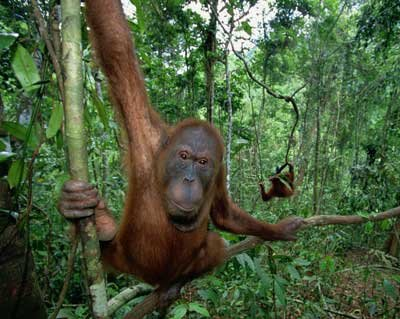Orangutan: (99, 74, 247, 289)
